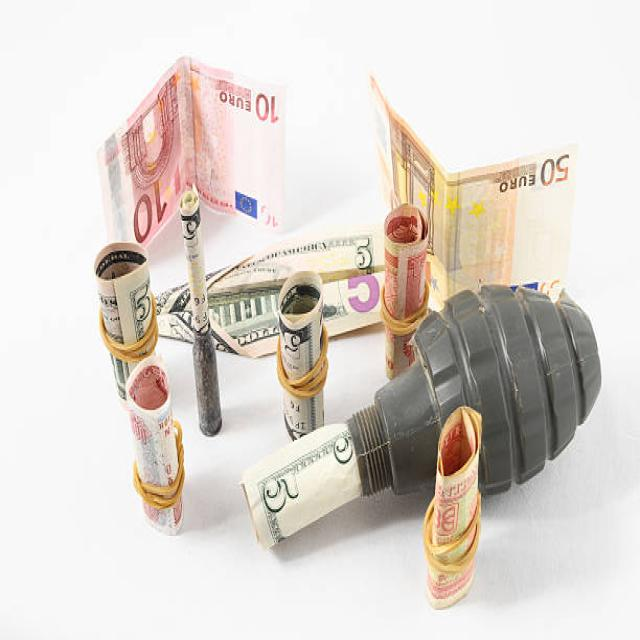grenade: (345, 284, 613, 504)
